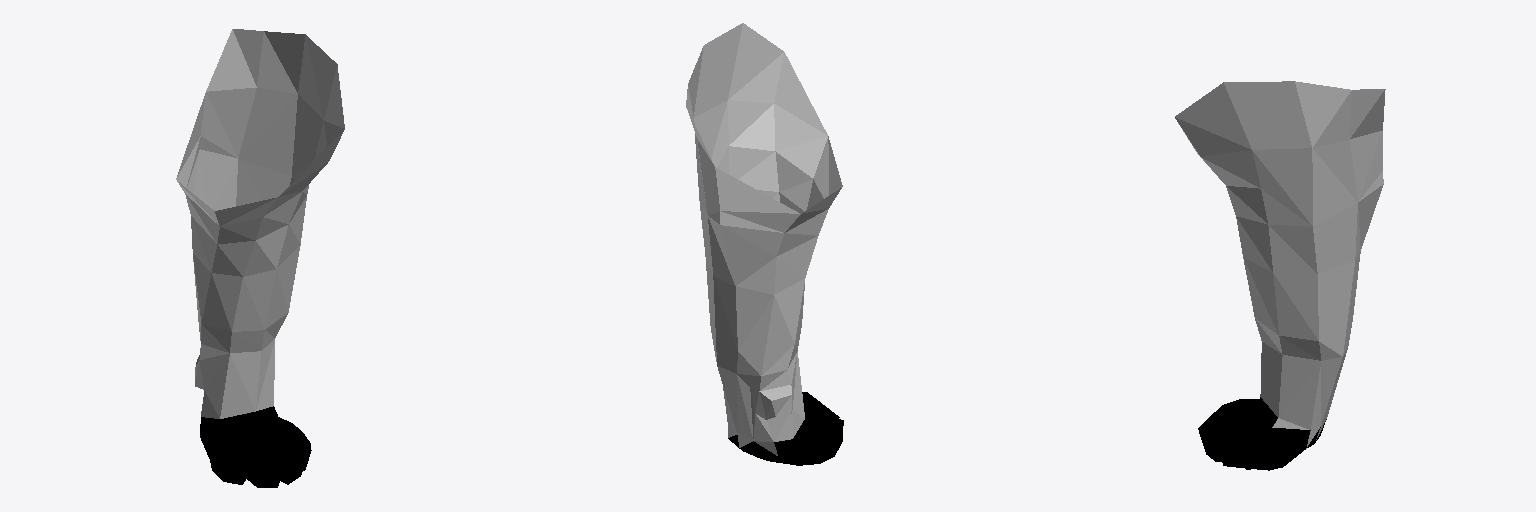
3 renders of one model, left to right at view 1: azimuth 30°, elevation 25°; view 2: azimuth 150°, elevation 25°; view 3: azimuth 270°, elevation 25°, orthographic.
Visible parts, largest first — view 1: cat_01_color05.002; view 2: cat_01_color05.002; view 3: cat_01_color05.002.
Part boxes in pixels (x1,y1,x2,y2): cat_01_color05.002: (176, 29, 344, 487); cat_01_color05.002: (686, 23, 843, 465); cat_01_color05.002: (1175, 81, 1385, 470).
Size of the model in its own units: 0.2875 by 0.9566 by 0.4523.
2 materials, 1 textured.